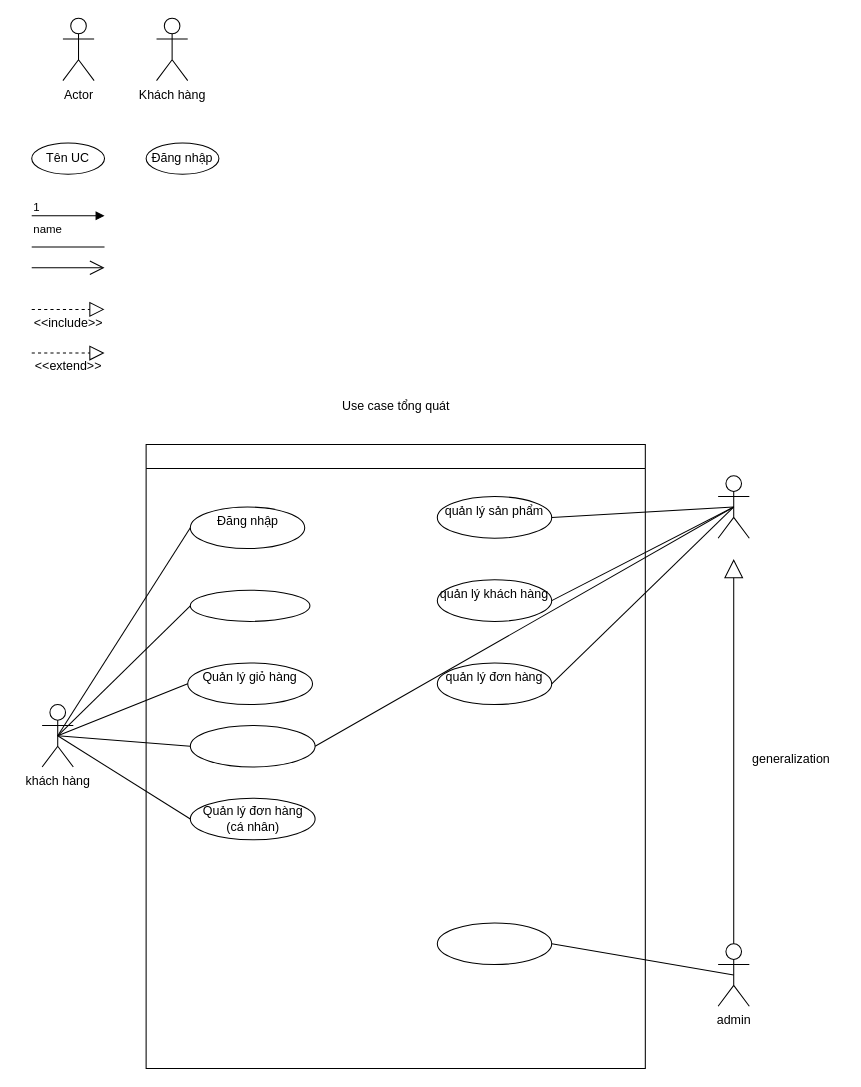
Some shapes in this 861 by 1087 pixel diagram are drawn without their labels. Here are the shapes that lost their labels. From the top down, the box of each, then its label:
(717, 475, 749, 538): nhân viên
(189, 589, 310, 621): Xem tt sản phẩm
(189, 724, 315, 767): Mua hàng
(145, 444, 645, 1069): Web bán quần áo
(436, 922, 552, 965): quản lý người dùng
